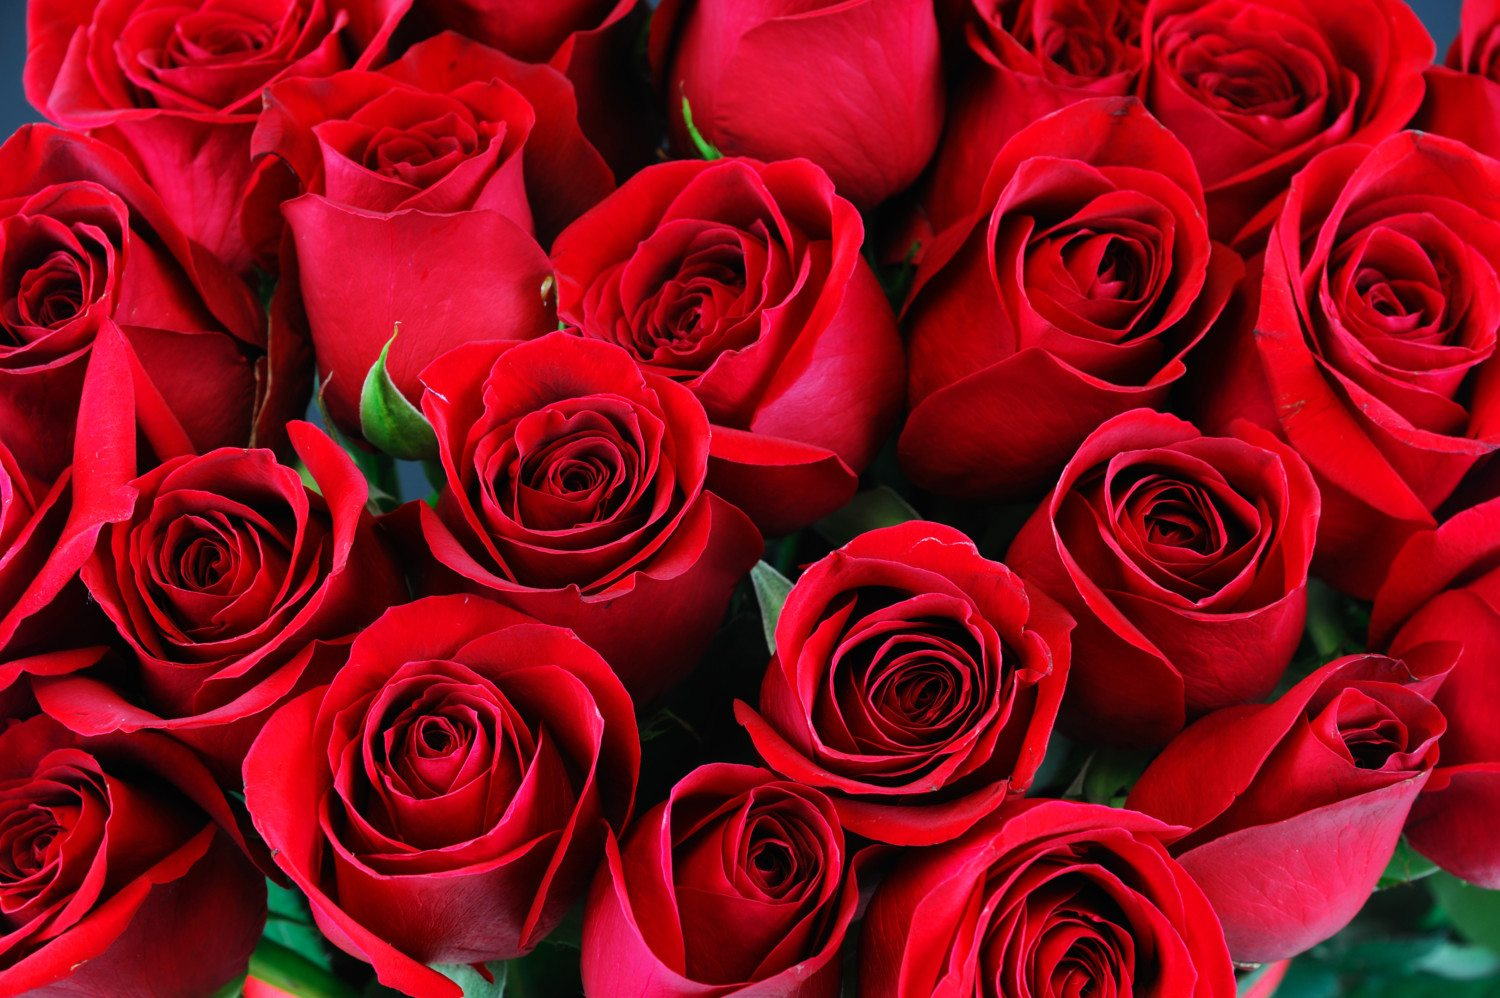Rose: (276, 593, 596, 971), (914, 133, 1225, 470), (416, 330, 732, 632), (78, 437, 373, 725), (776, 520, 1050, 822), (1040, 415, 1302, 710)
